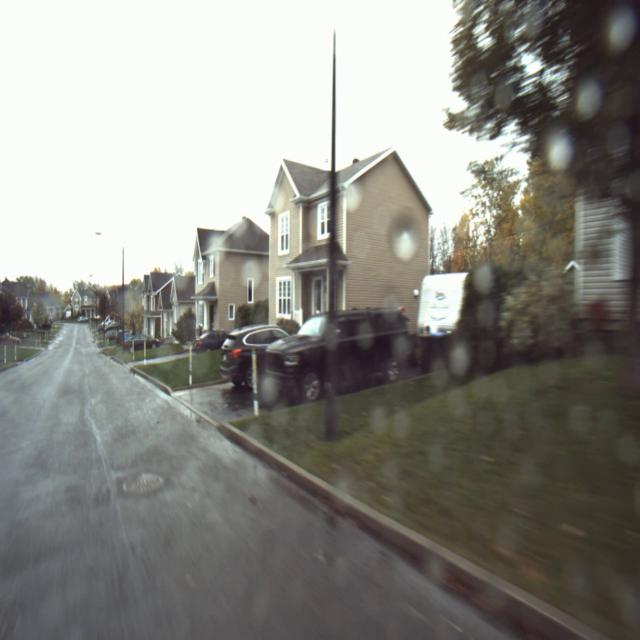car: (264, 301, 412, 390)
